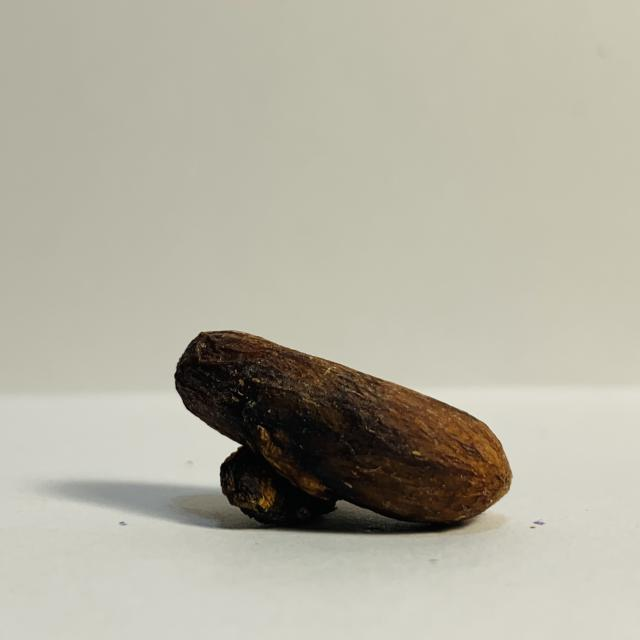Agglomerated_cocoabeans: (37, 265, 545, 547)
